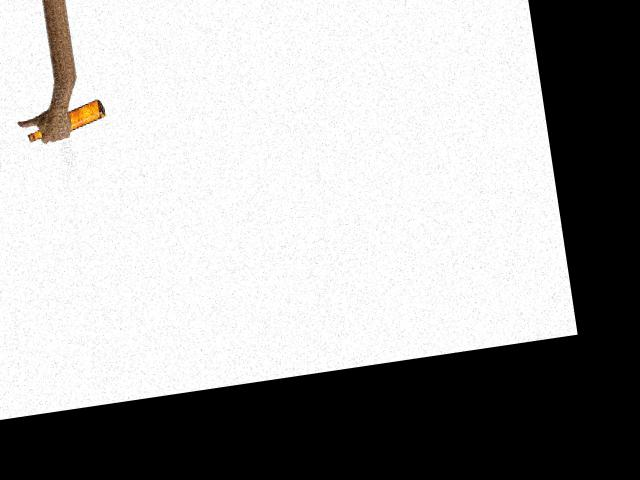beer: (24, 98, 107, 141)
